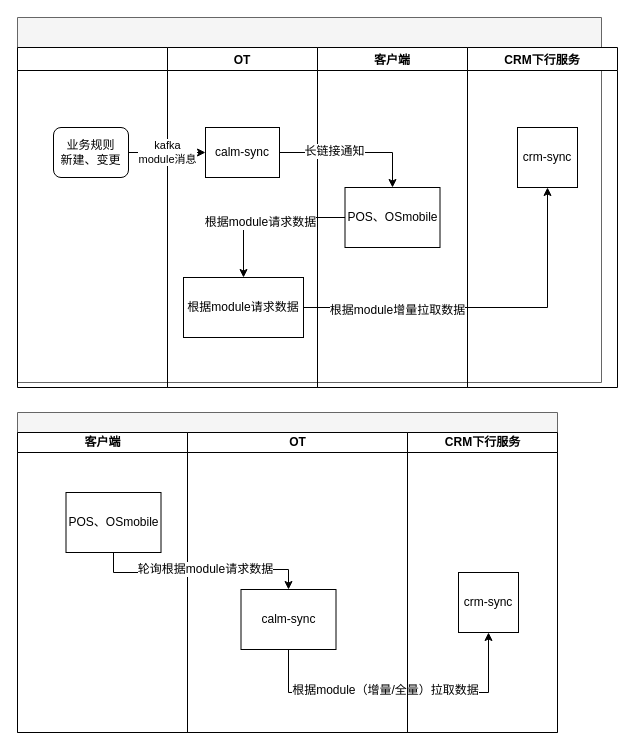
Image size: 635x750. Some labels were removed from this diagram. The shapes that lost their labels are listed below. From the top down, each one's box as (x1, y1, x2, y2) in pixels, then its label:
(16, 46, 168, 388): CRM业务服务
(16, 16, 602, 382): 数据同步下行--触发模式
(16, 412, 558, 732): 数据同步下行--轮询pull模式
